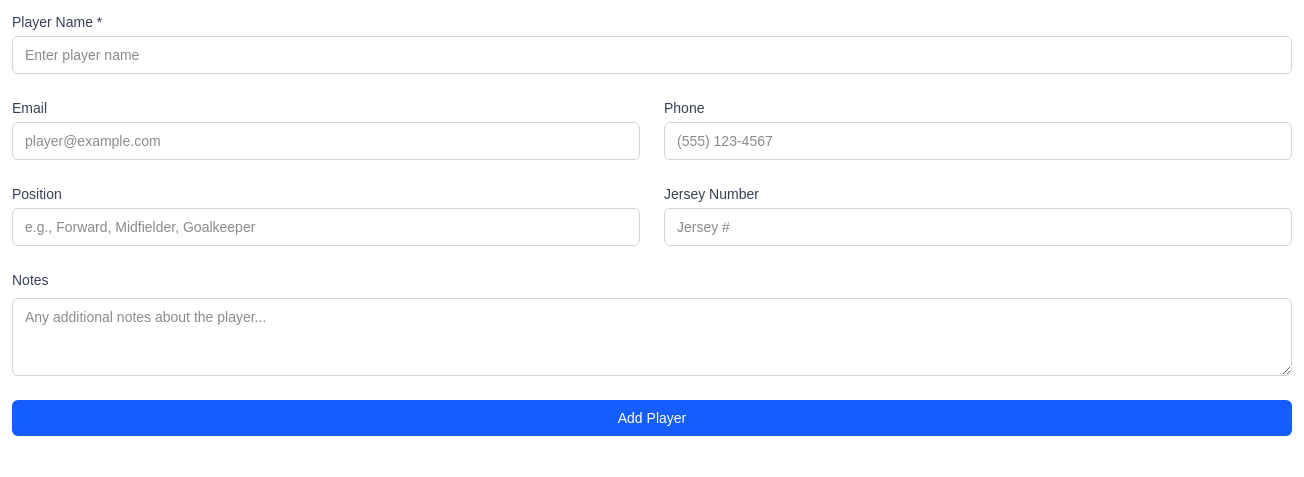
PlayerForm › clears validation errors when user corrects input
Click the button "Add Player": (652, 418) [12,400,1292,436]
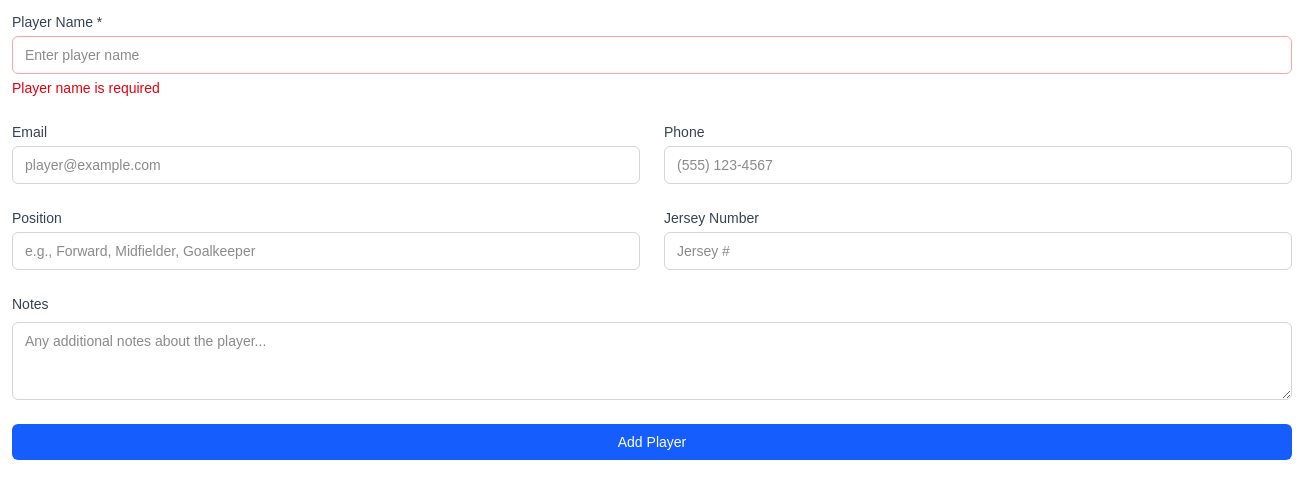
Check: the text "Player name is required" is shown, box [12,80,160,96]
In the field with placeholder "Enter player name": (652, 55) [12,36,1292,74], type "Valid Name"
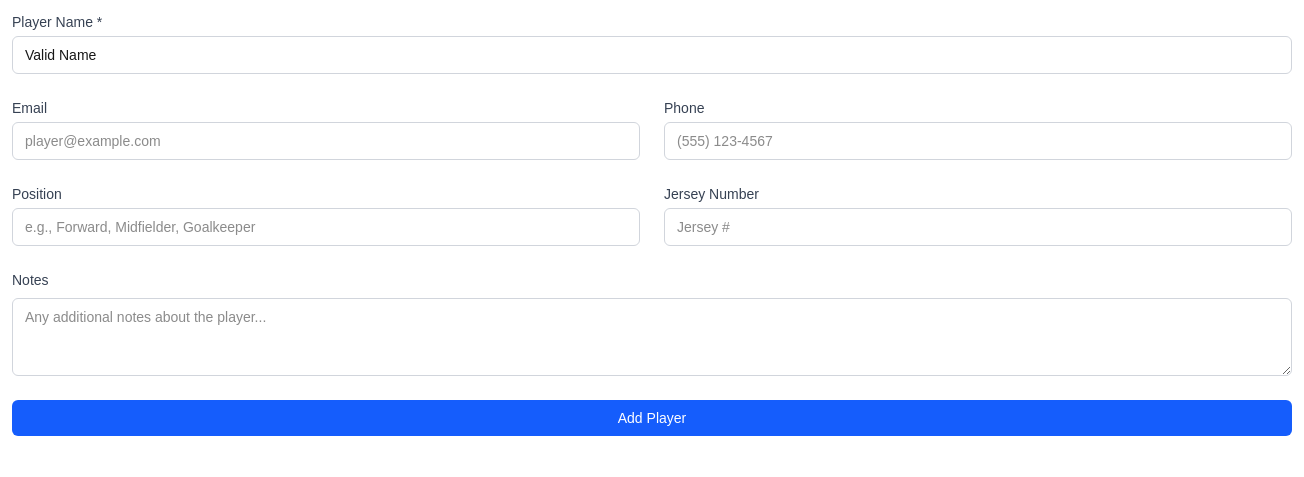
Check: the text "Player name is required" is gone
